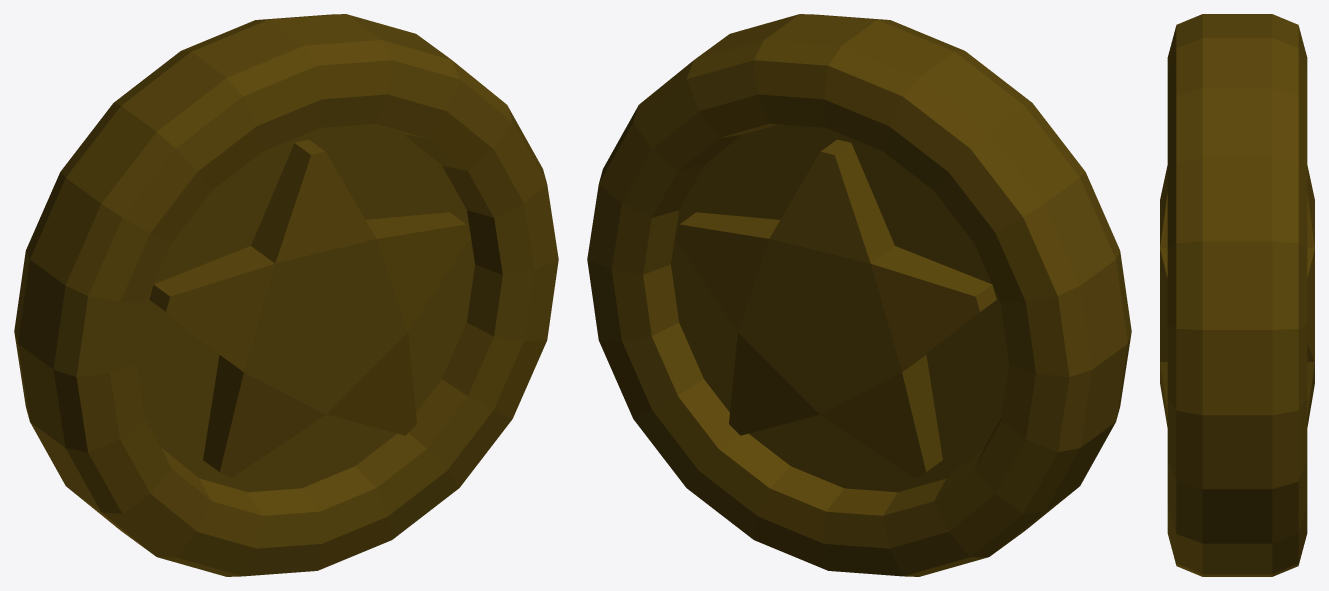
The model's file is coin.glb.
The picture shows the model from 3 angles, left to right: view 1: azimuth 30°, elevation 25°; view 2: azimuth 150°, elevation 25°; view 3: azimuth 270°, elevation 25°; orthographic projection. The views are drawn at different scales.
Visible parts, largest first — view 1: Coin_Star_Cylinder.012; view 2: Coin_Star_Cylinder.012; view 3: Coin_Star_Cylinder.012.
Part boxes in pixels (left/top/right/bottom): Coin_Star_Cylinder.012: left=14, top=14, right=558, bottom=576; Coin_Star_Cylinder.012: left=587, top=14, right=1131, bottom=576; Coin_Star_Cylinder.012: left=1160, top=14, right=1314, bottom=576.
Size of the model in its own units: 0.7367 by 0.7376 by 0.2011.
